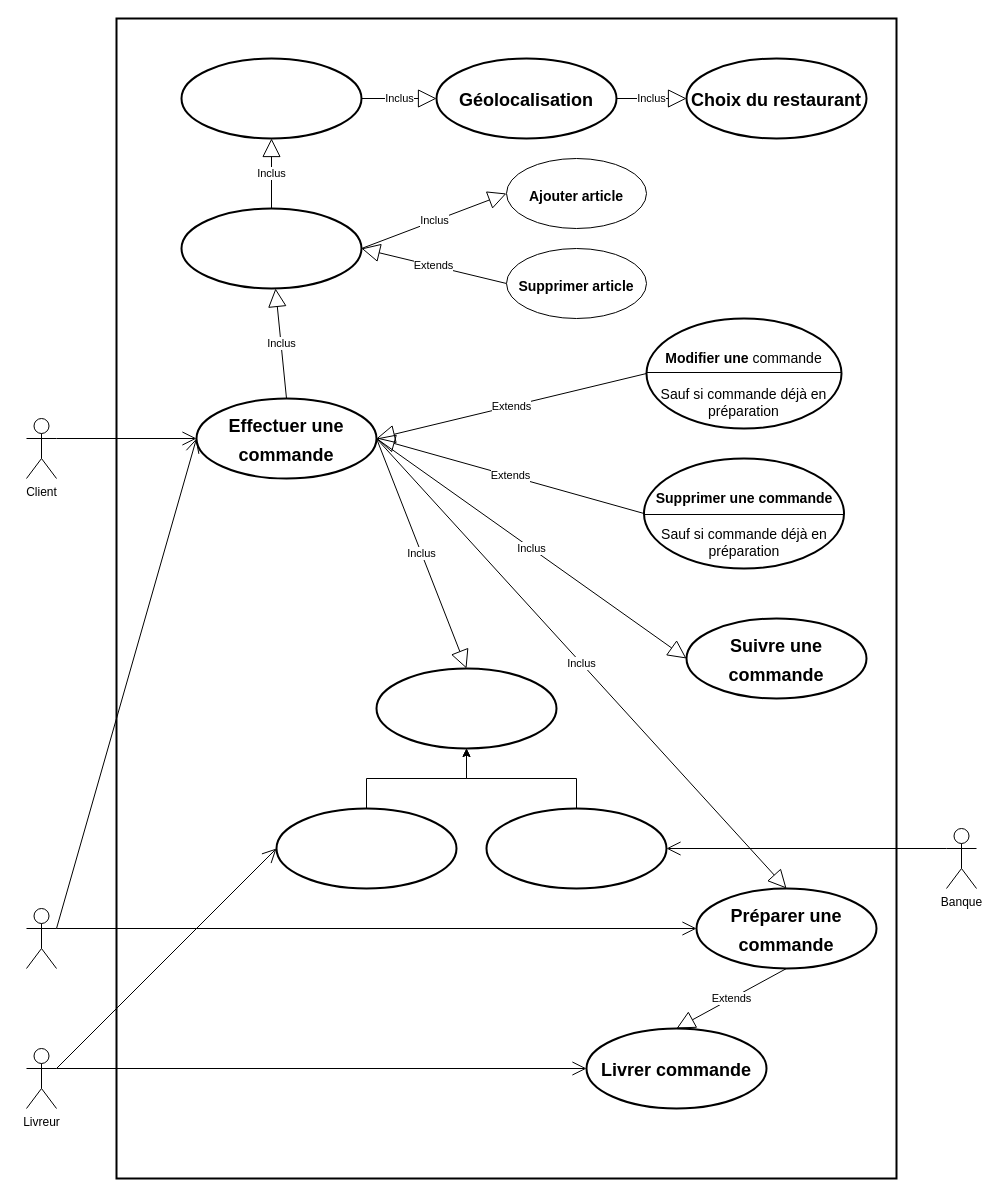
The diagram is 999 pixels wide and 1196 high, and some of its shapes have lost their labels. The centre of each missing label's shape, as x and y in pixels:
Consulter la carte: the point at 271,98
Créer un panier: the point at 271,248
Internet: the point at 576,848
Payer une commande: the point at 466,708
Pizzaiolo: the point at 41,938
À la livraison: the point at 366,848
